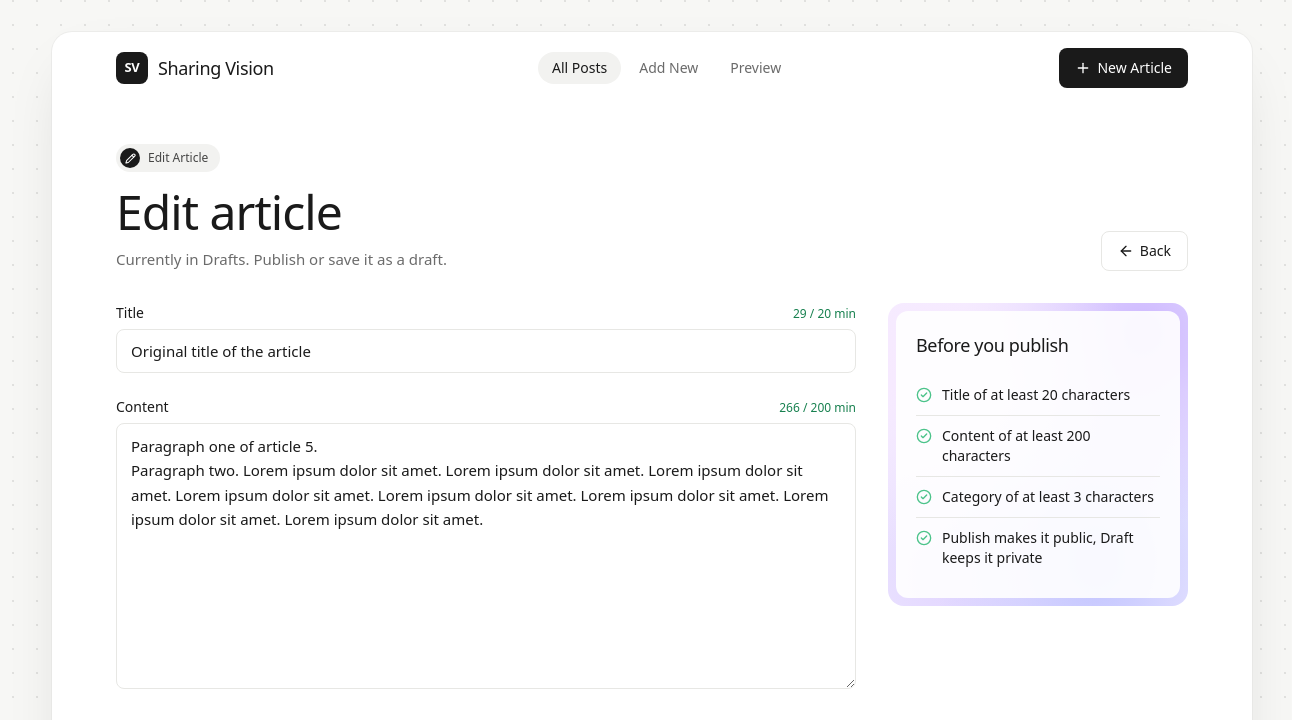
Test: Edit Article page › saves the edited article with PUT status "publish" and opens the Published tab
Clear the field labelled "Title" at (486, 351), box 116,328 -> 856,373
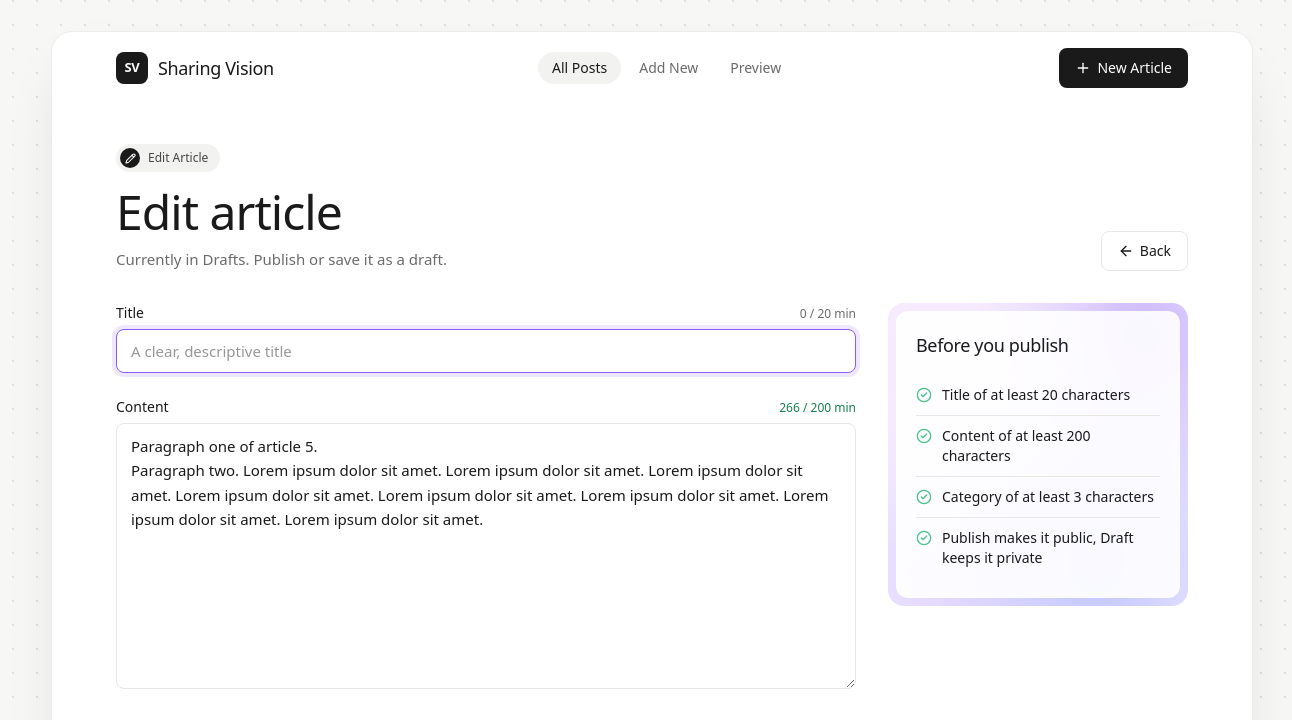
Type keys "An edited title that is long enough"
(page scrolled)
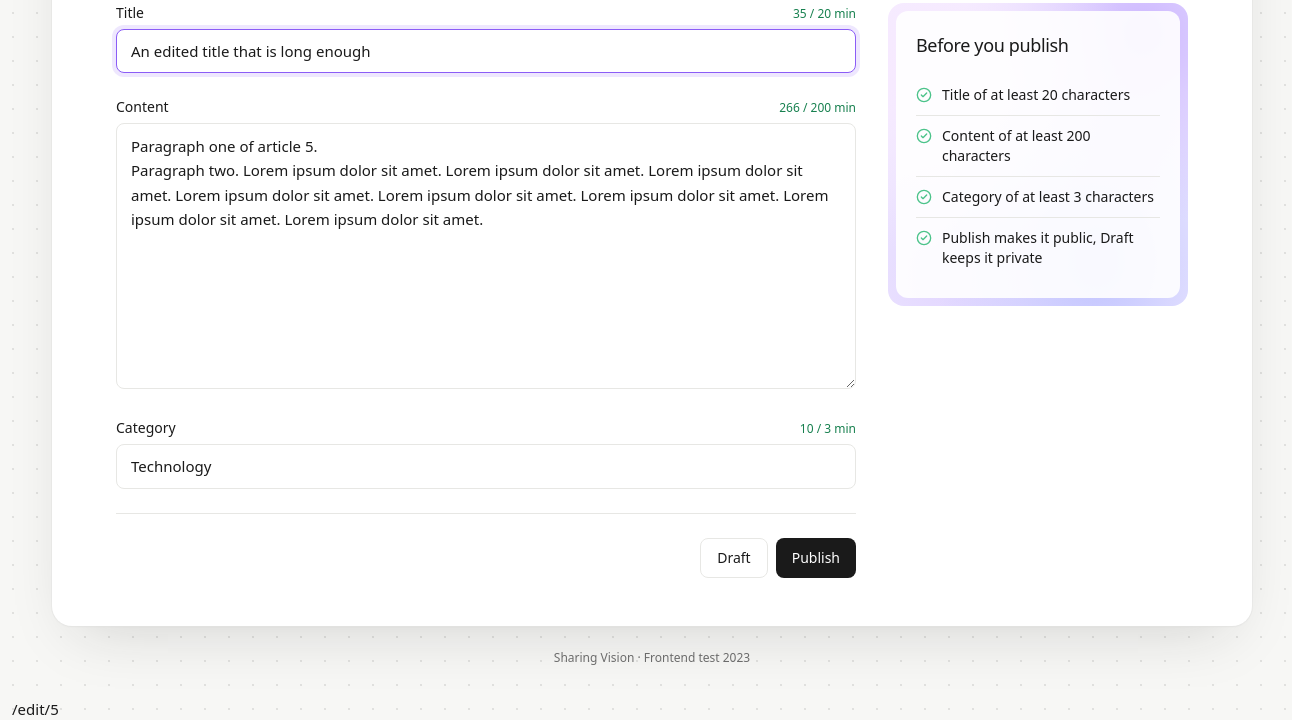
Click the button "Publish" at (816, 558), box 776,538 -> 856,578
(page scrolled)
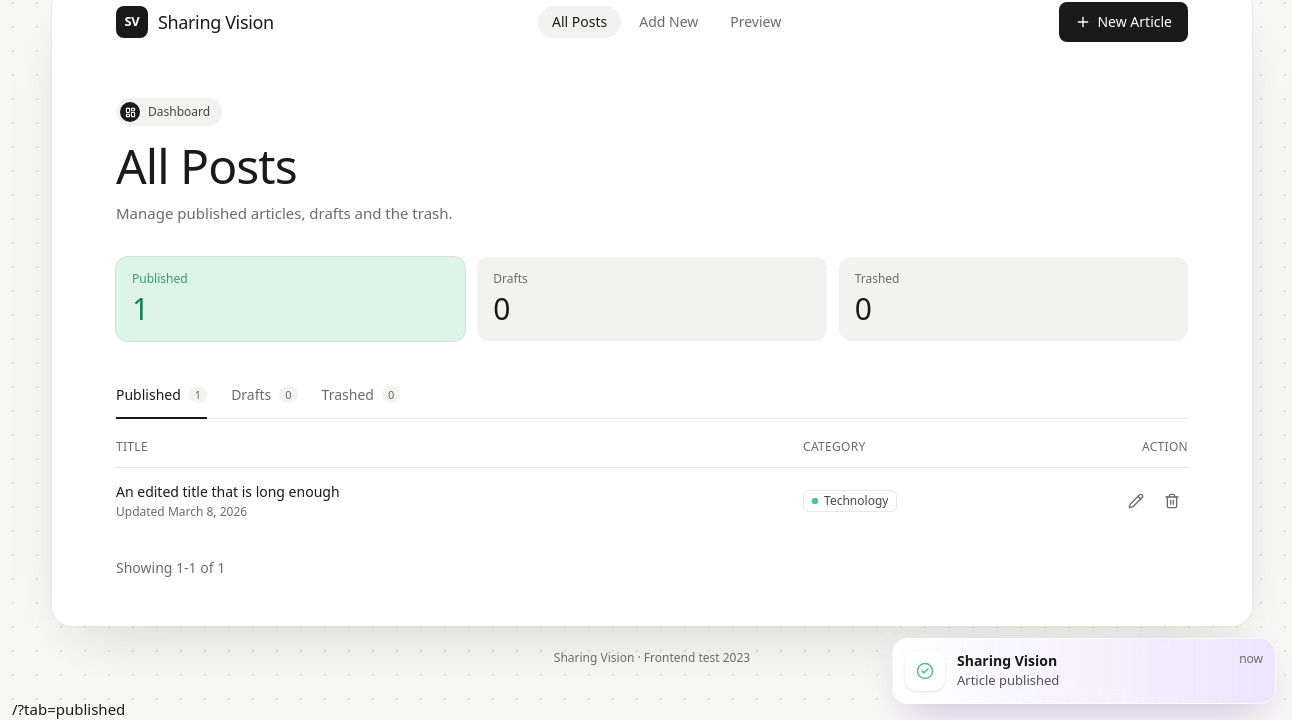
Now the text "Article published" is shown, box 957,671 -> 1059,689
Now the text with test id "location" reads "/?tab=published", box 12,698 -> 125,718
